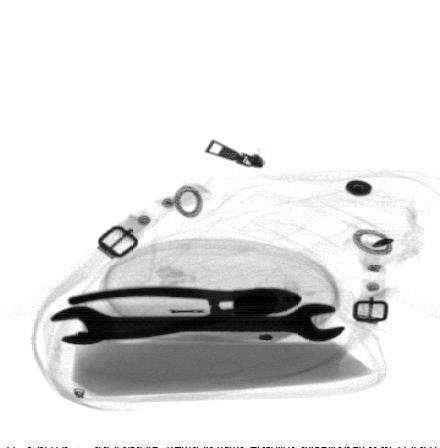Pliers: (66, 288, 303, 330)
Wrench: (52, 302, 344, 344)
